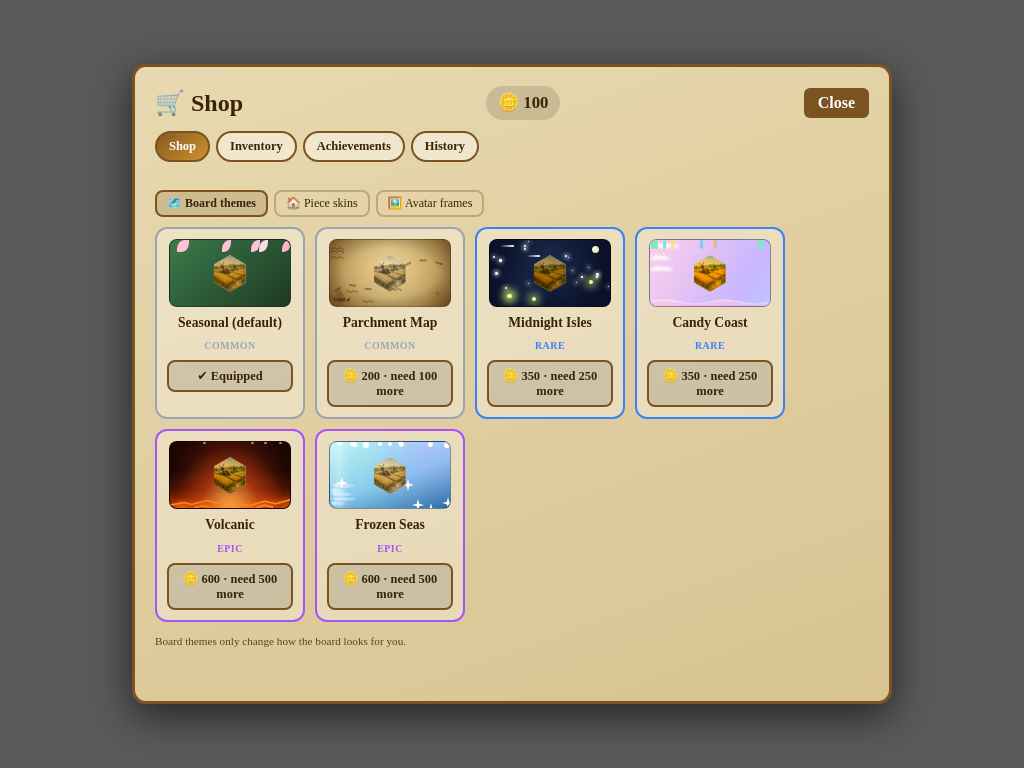
Test case: <Shop /> › shows the balance and blocks purchases you can't afford
Expected: the text with test id "wallet-balance" shows "100", [523,93,548,112]
Click the button "🏠 Piece skins": (322, 204) [274,190,370,217]
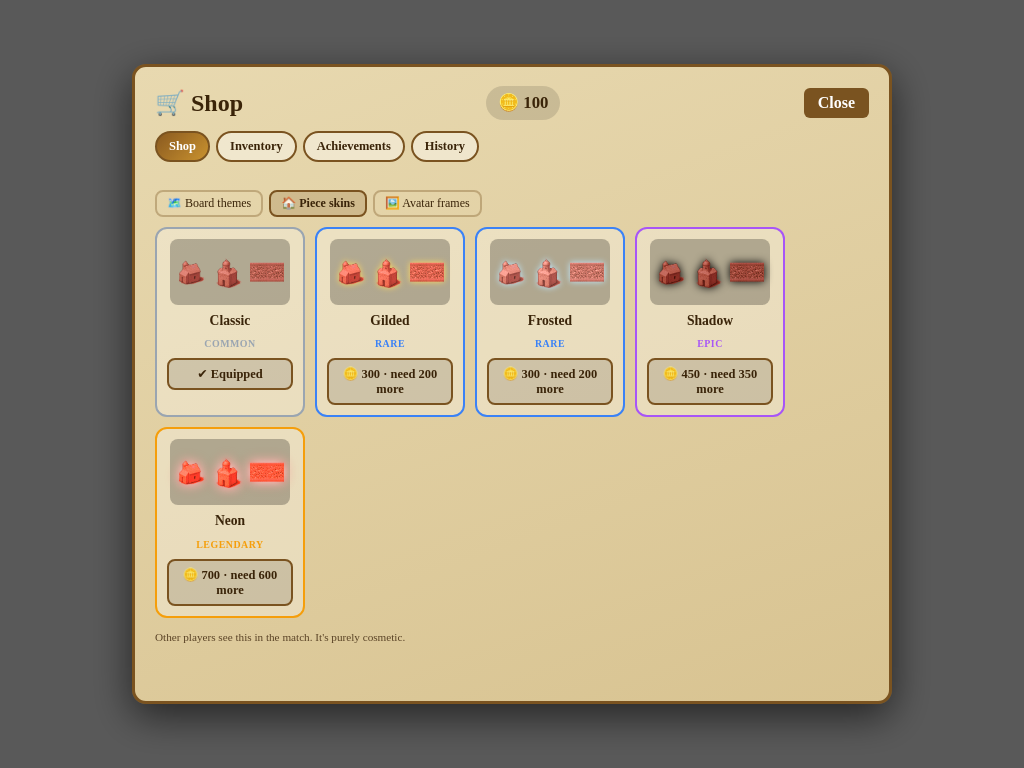
Result: the button "🪙 700 · need 600 more" is disabled at [167,558,293,606]
